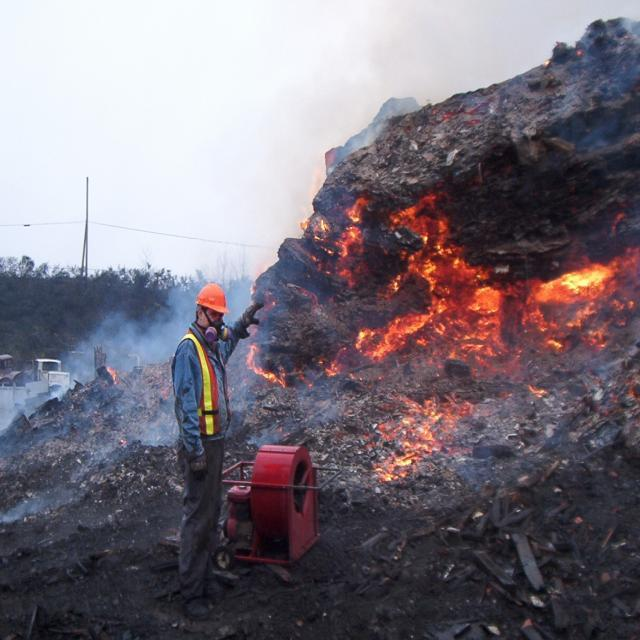Fire: (285, 182, 518, 368), (360, 385, 480, 488), (538, 254, 619, 310)
Smoke: (0, 266, 260, 456), (0, 410, 170, 534)
